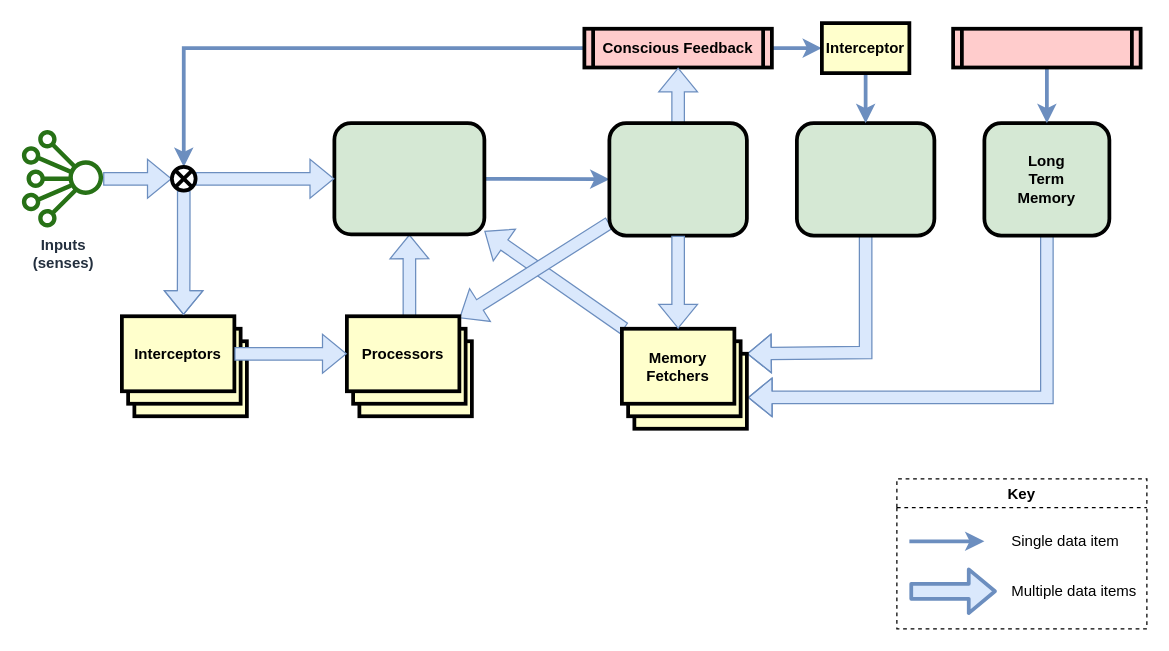
Image size: 1169x651. Some labels were removed from this diagram. The shapes that lost their labels are listed below. From the top down, each one's box as (x1, y1, x2, y2) in pixels, then its label:
(951, 26, 1142, 69): ?? Learning ??
(332, 121, 486, 236): Attention Attenuator
(607, 121, 748, 237): Working Memory
(794, 121, 936, 237): Short Term Memory
